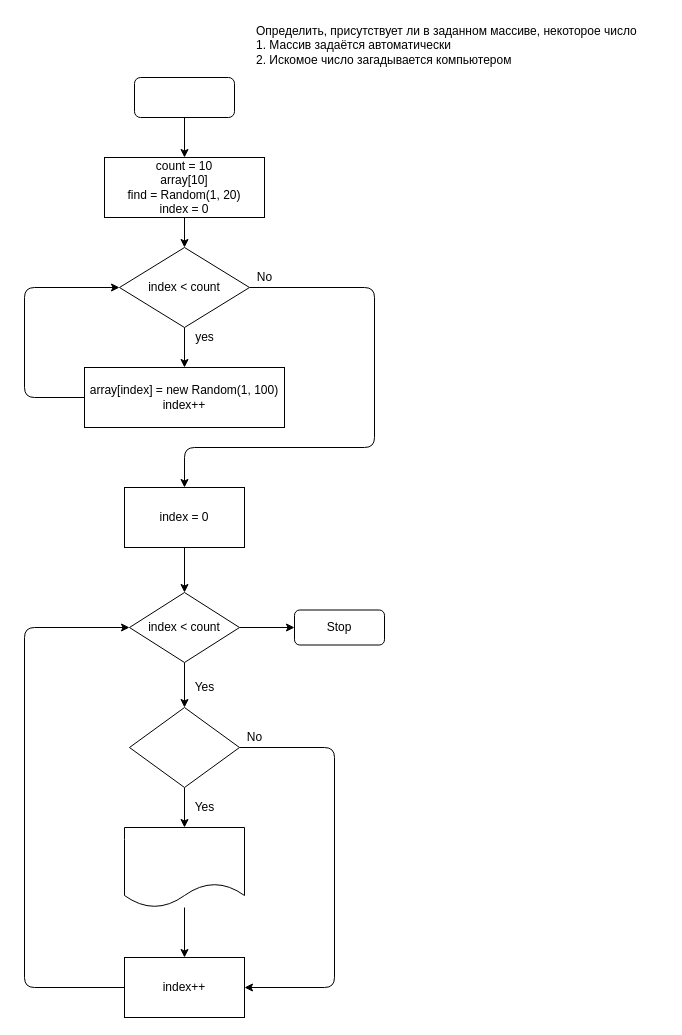
Image size: 682x1035. Some labels were removed from this diagram. The shapes that lost their labels are listed below. From the top down, each one's centre as x and y in pixels, then its label:
At pixel 184 97: "Start".
At pixel 184 747: "array{index} == find".
At pixel 184 867: "Да".
